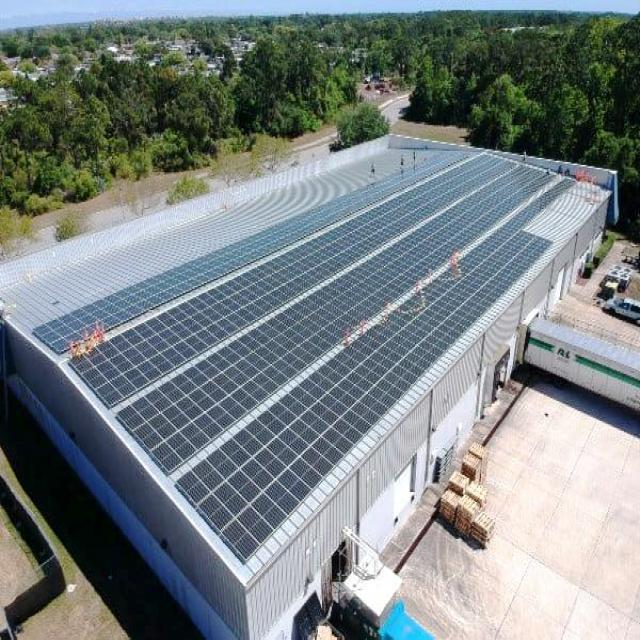no faulty: (34, 149, 573, 556)
